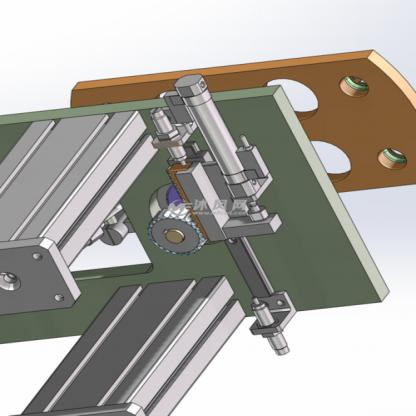FOD: (149, 203, 206, 259)
